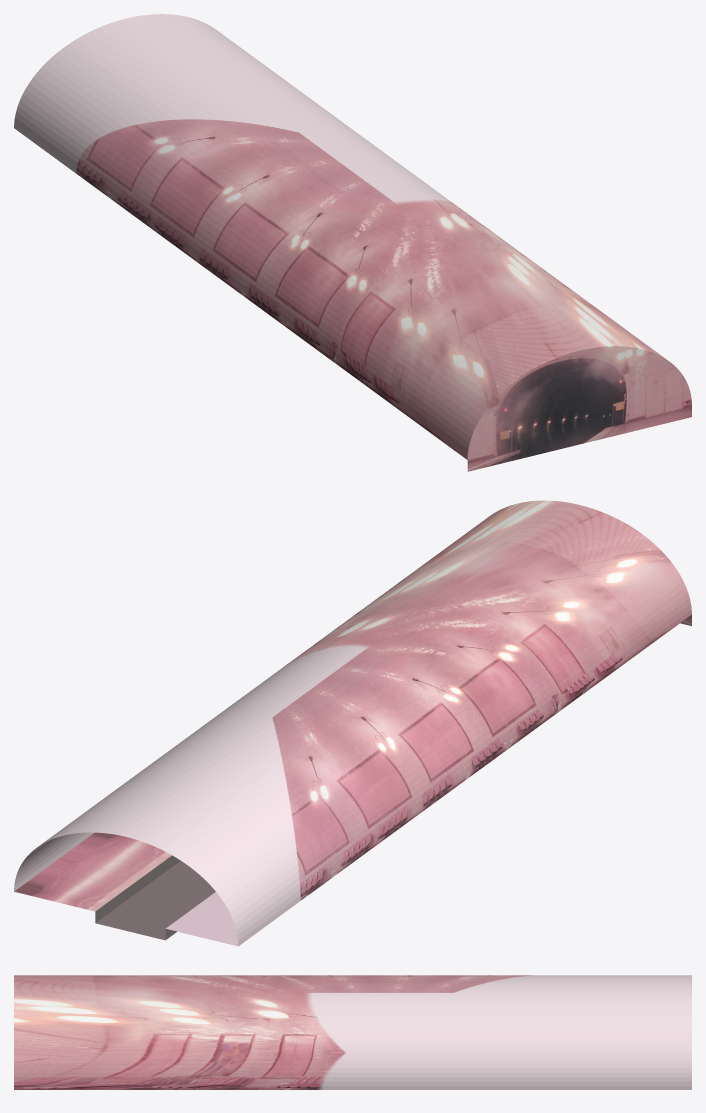
Rendered from station.glb.
3 renders of one model, top to bottom at view 1: azimuth 30°, elevation 25°; view 2: azimuth 150°, elevation 25°; view 3: azimuth 270°, elevation 25°, orthographic. The views are drawn at different scales.
Parts seen in each view (by area): view 1: Voute, MurFond; view 2: Voute, QuaiNous, Voie, QuaiFace, BordNous; view 3: Voute.
Part boxes in pixels (x1,y1,x2,y2): Voute: (14,14,665,459); MurFond: (467,346,691,471); Voute: (14,500,691,946); QuaiNous: (14,832,171,911); Voie: (96,861,215,940); QuaiFace: (166,892,238,946); BordNous: (95,855,180,922); Voute: (14,975,691,1089).
Bounding box in the file's own units: 20 × 8 × 70.
Materials: 7 (7 with a texture image).
